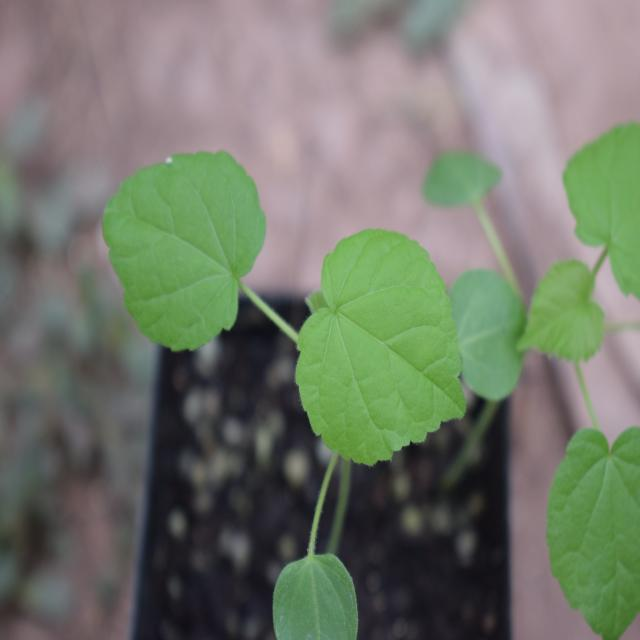abutilon theophrasti: (75, 134, 462, 504)
